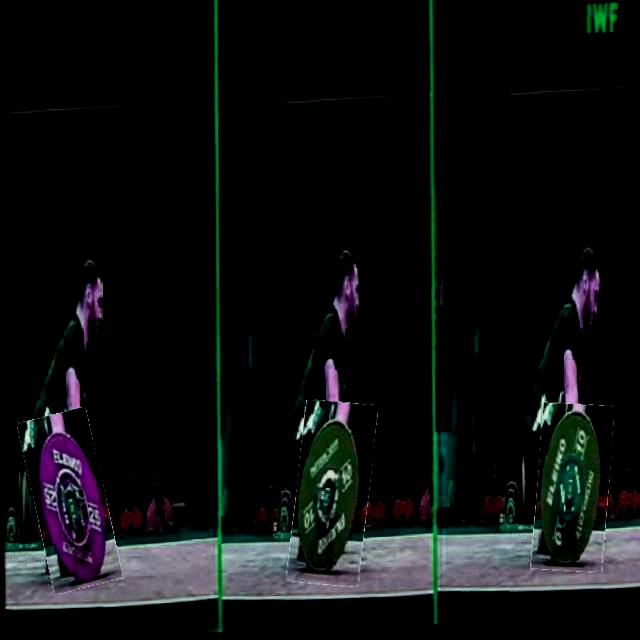barbell: (25, 410, 115, 594), (291, 404, 375, 590), (532, 407, 612, 579)
